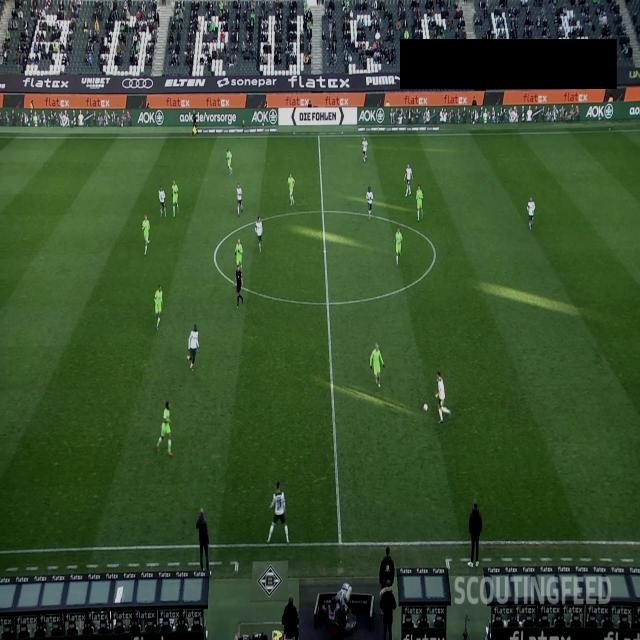player: (266, 481, 290, 545), (156, 400, 174, 456), (434, 371, 450, 424), (370, 343, 384, 389), (188, 324, 200, 372), (154, 284, 163, 330), (254, 215, 264, 253), (394, 225, 403, 267), (526, 195, 536, 231), (142, 214, 150, 256), (404, 163, 414, 196), (172, 179, 180, 217), (416, 183, 424, 221), (158, 185, 167, 217), (366, 186, 374, 220), (287, 172, 295, 206), (235, 238, 243, 270), (236, 182, 242, 216), (225, 147, 232, 175), (362, 136, 368, 162)
referee: (234, 263, 243, 307), (192, 114, 198, 136)
